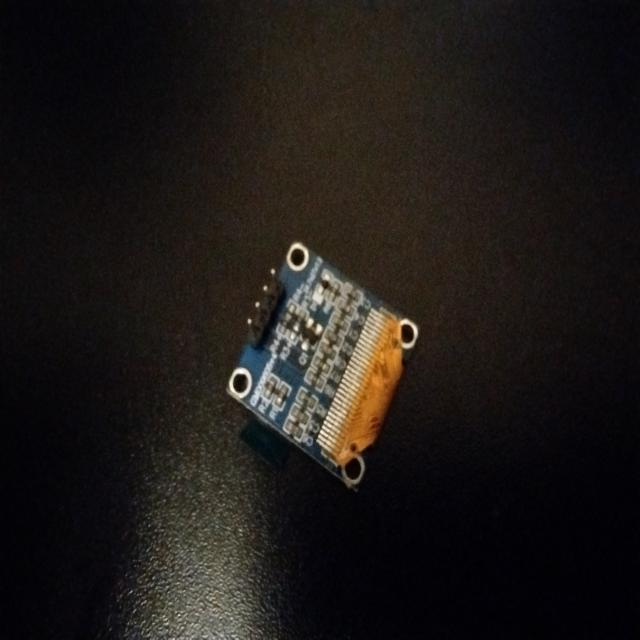oled: (220, 228, 423, 506)
